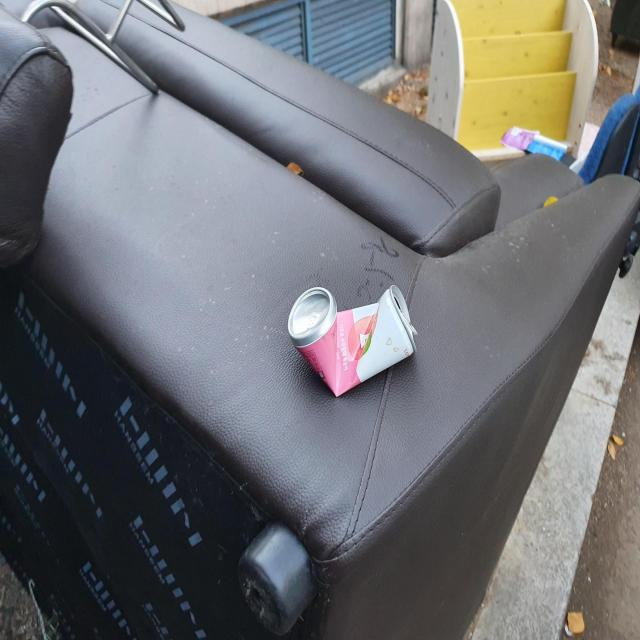can: (288, 285, 417, 396)
